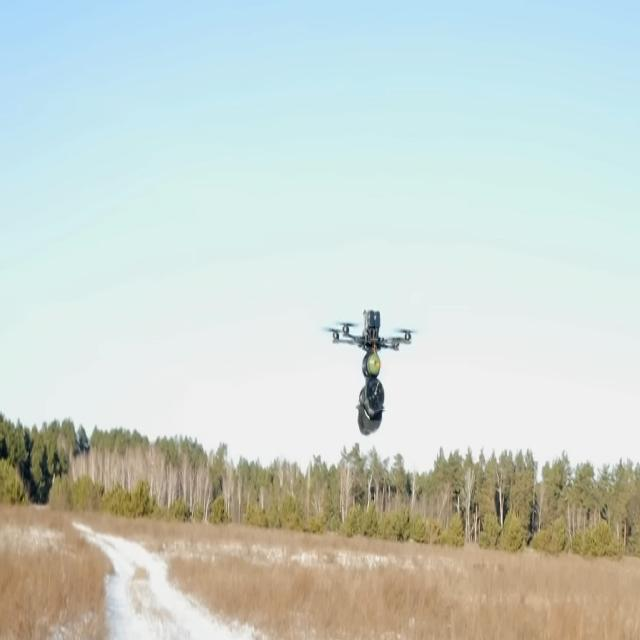drone: (320, 306, 422, 436)
